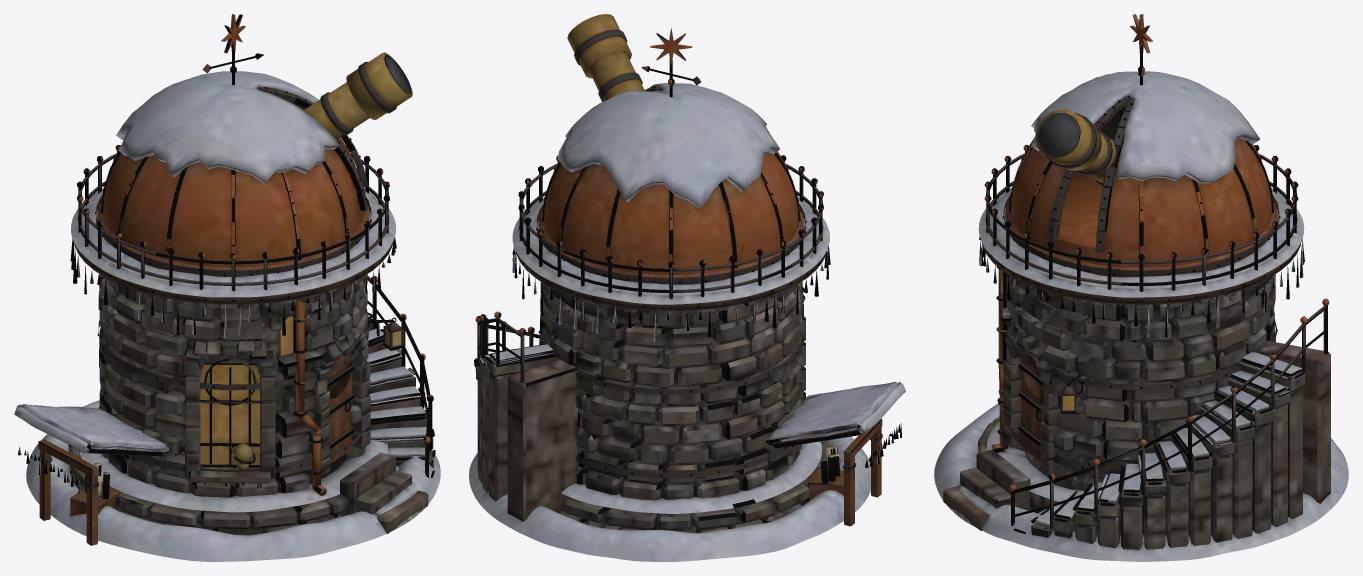
File: observatory.glb
The picture shows the model from 3 angles, left to right: view 1: azimuth 30°, elevation 25°; view 2: azimuth 150°, elevation 25°; view 3: azimuth 270°, elevation 25°; orthographic projection. The views are drawn at different scales.
Parts seen in each view (by area): view 1: model; view 2: model; view 3: model.
Boxes of the visible parts, x1,y1,x2,y2 form: model: (14, 14, 440, 561); model: (469, 14, 905, 561); model: (934, 14, 1348, 561).
Size of the model in its own units: 7.14 by 8.12 by 6.59.
2 materials, 2 textured.
